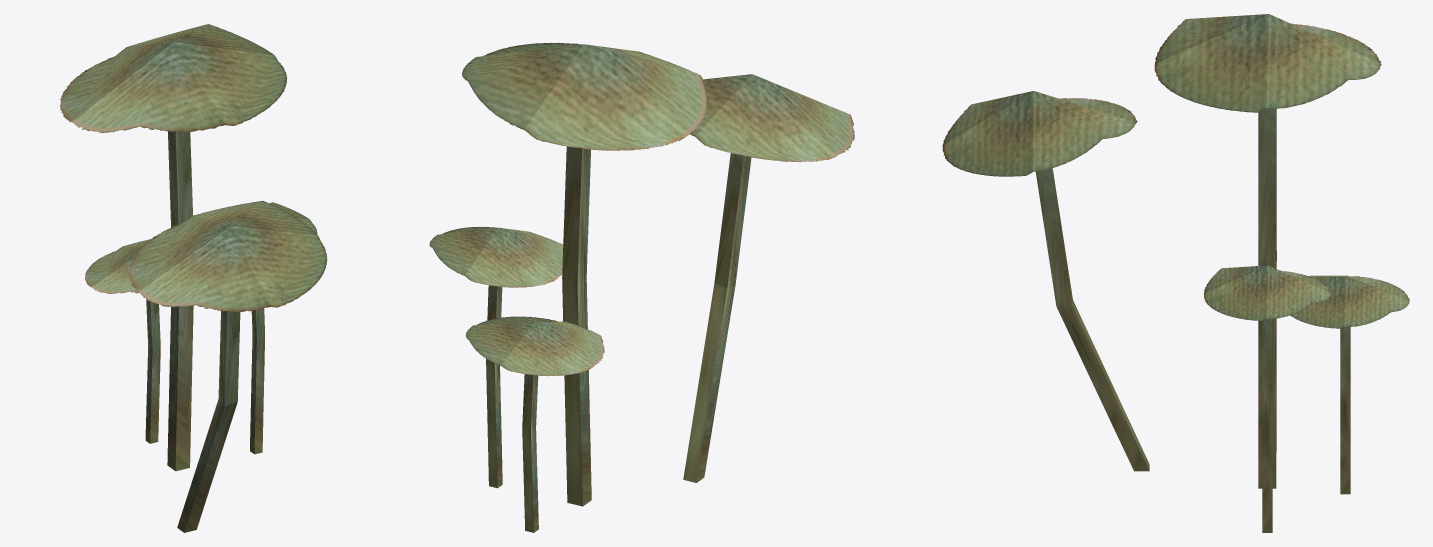
The model's file is mashroom4.fbx.
3 views of the same model, side by side, from view 1: azimuth 30°, elevation 25°; view 2: azimuth 150°, elevation 25°; view 3: azimuth 270°, elevation 25° (orthographic). The views are drawn at different scales.
Visible parts, largest first — view 1: Cube; view 2: Cube; view 3: Cube.
Boxes of the visible parts, x1,y1,x2,y2 form: Cube: (60, 24, 327, 532); Cube: (429, 42, 854, 532); Cube: (942, 14, 1409, 532).
Size of the model in its own units: 21.23 by 31 by 28.98.
